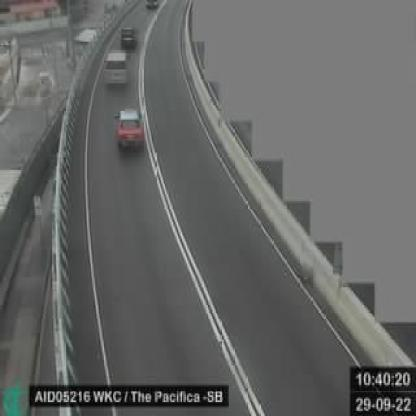Car: (112, 102, 147, 160), (100, 47, 131, 88), (117, 23, 142, 52), (140, 0, 160, 14)
